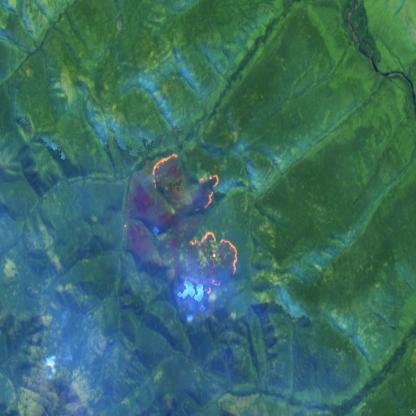fire: (151, 147, 242, 280)
